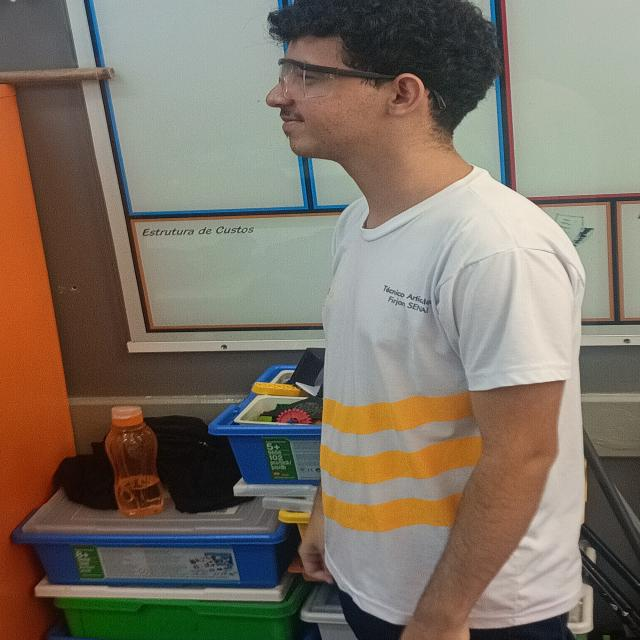oculos-epi: (275, 57, 399, 101)
